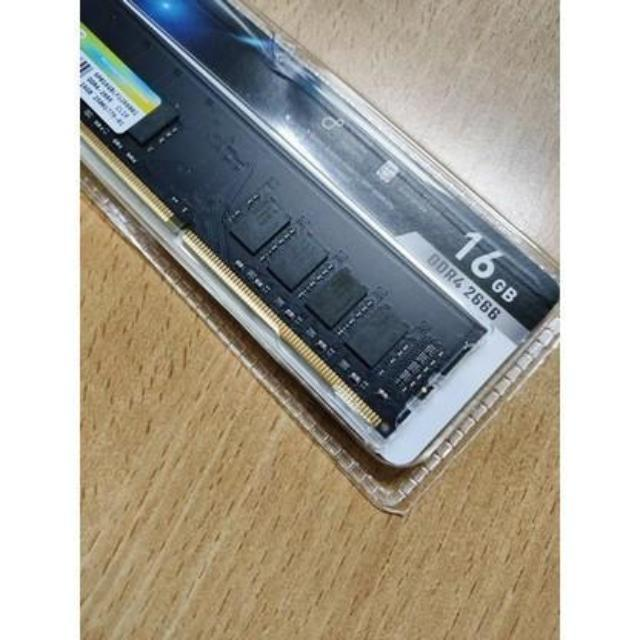RAM: (80, 0, 486, 443)
